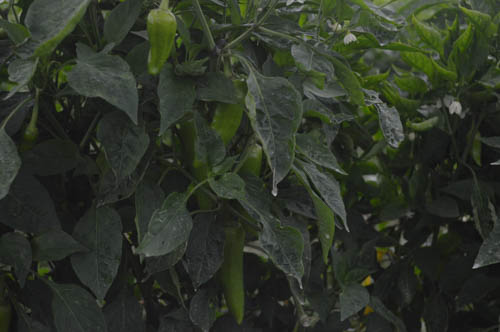ChiliPepper: (219, 220, 248, 319), (184, 119, 211, 204), (147, 11, 178, 77), (211, 86, 243, 143), (240, 147, 261, 178)
